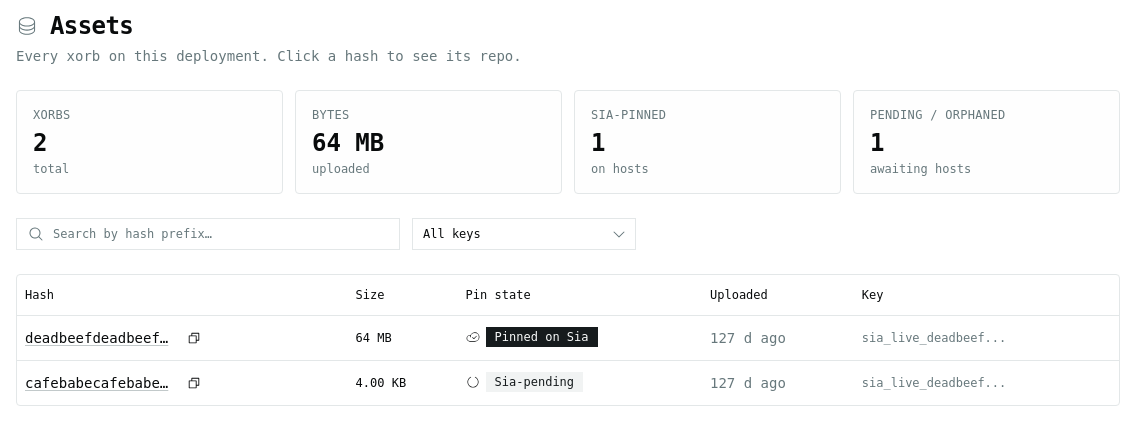
Test: AssetsPage › does NOT forward a sub-8-char prefix to CAS (server-side 8-hex rule) but still filters client-side
The image size is (1137, 423).
Type "dead" into the field with test id "assets-search" at (208, 234), box [16,218,400,250]
Wait 300 ms
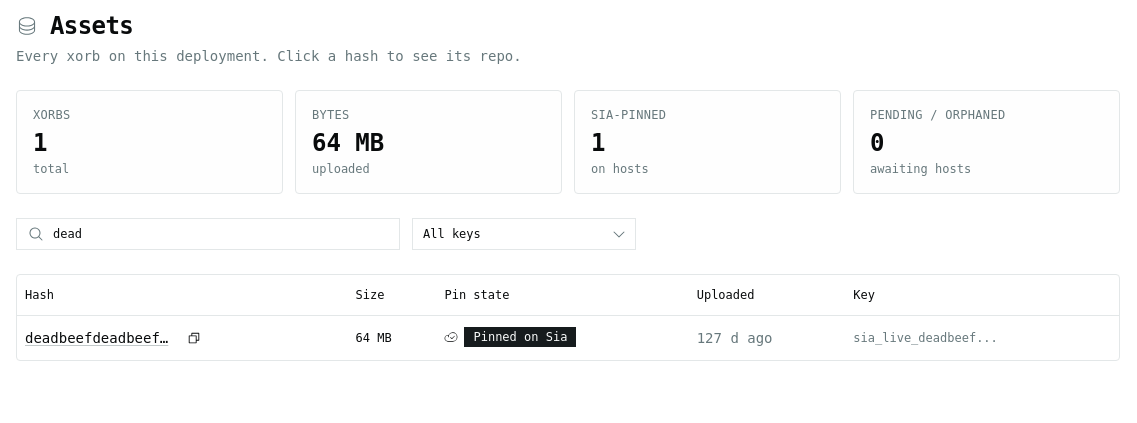
Expected: the link "deadbeefdeadbeef…" is shown, [25,328,168,348]
Expected: the link "cafebabecafebabe" is gone
